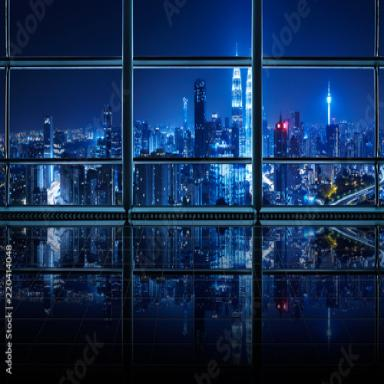glass_panel: (133, 274, 251, 366), (134, 68, 251, 156), (263, 275, 374, 365), (10, 70, 121, 158), (263, 68, 374, 156), (10, 0, 121, 87), (134, 0, 251, 56), (263, 0, 374, 57), (134, 163, 251, 207), (9, 225, 122, 270), (134, 226, 251, 269), (262, 226, 374, 269), (9, 163, 122, 205), (263, 164, 374, 205)
